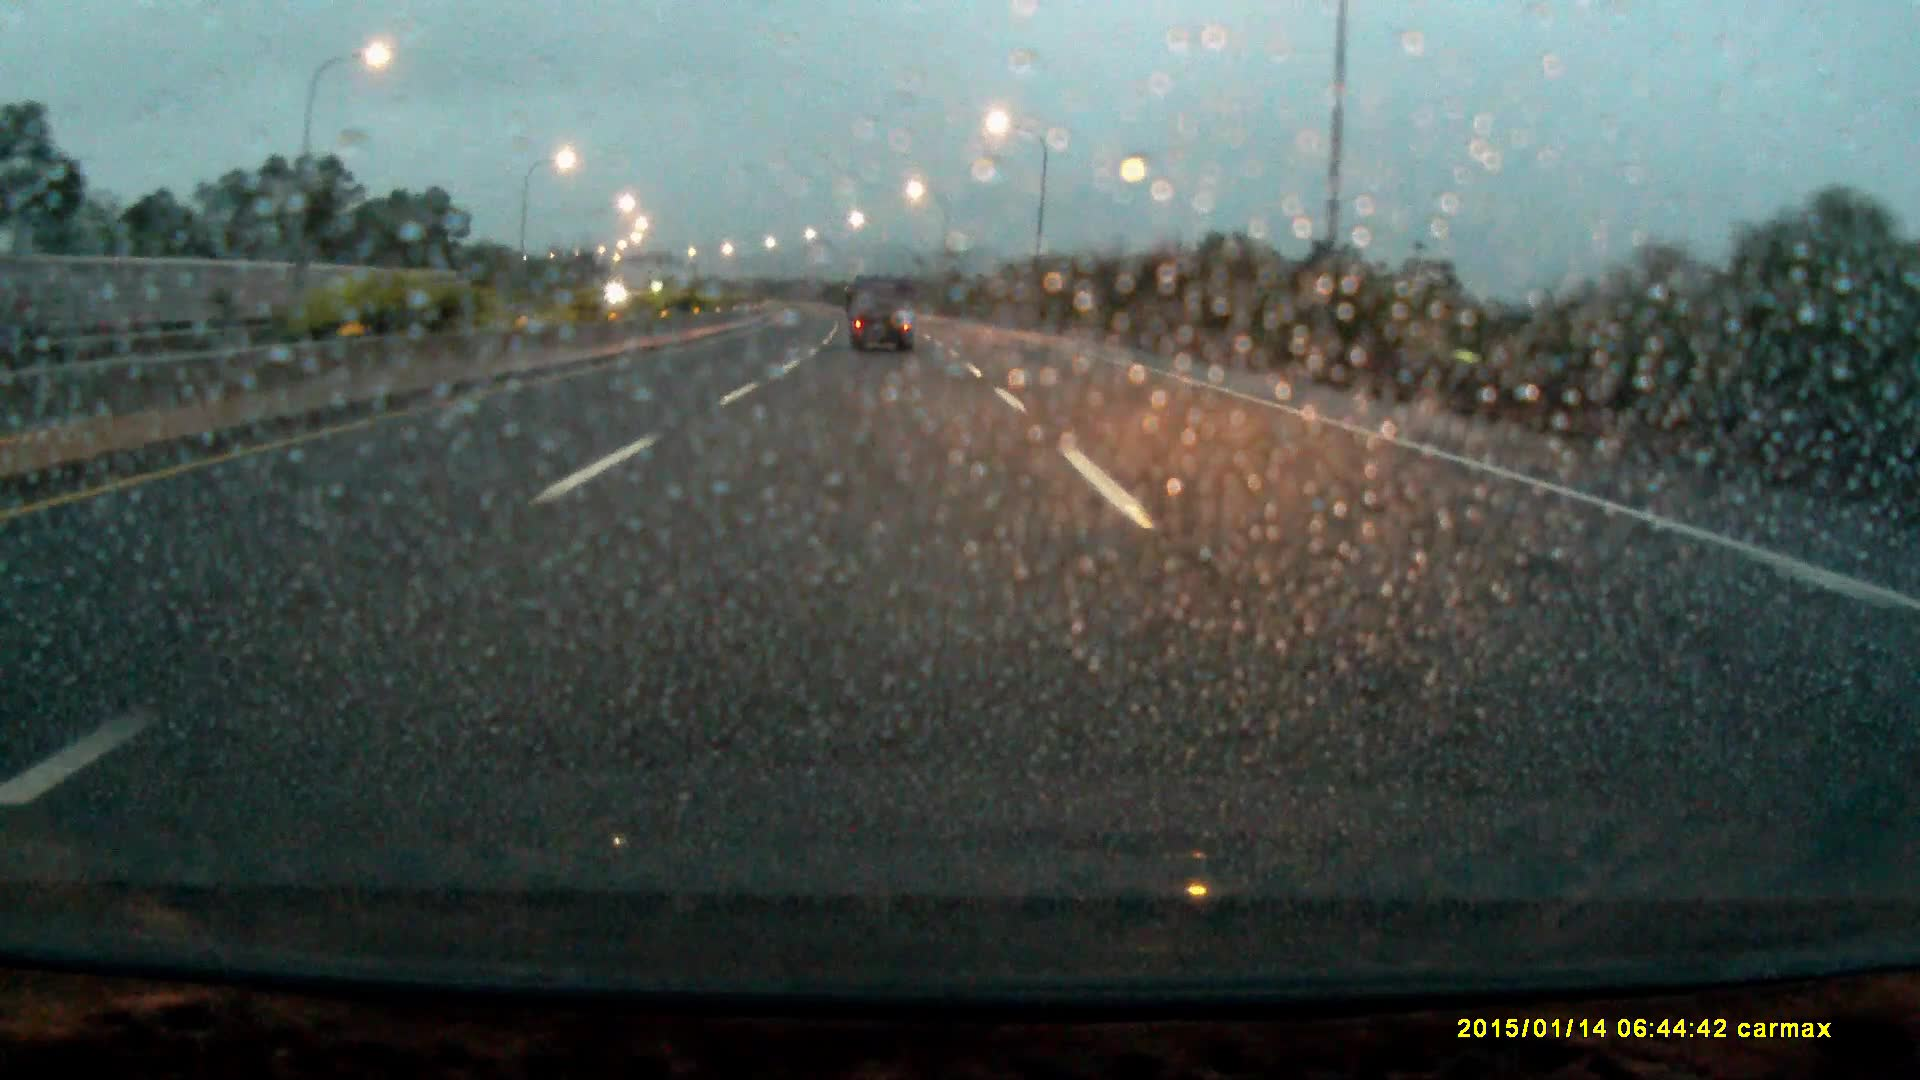vehicle: (851, 274, 916, 355)
